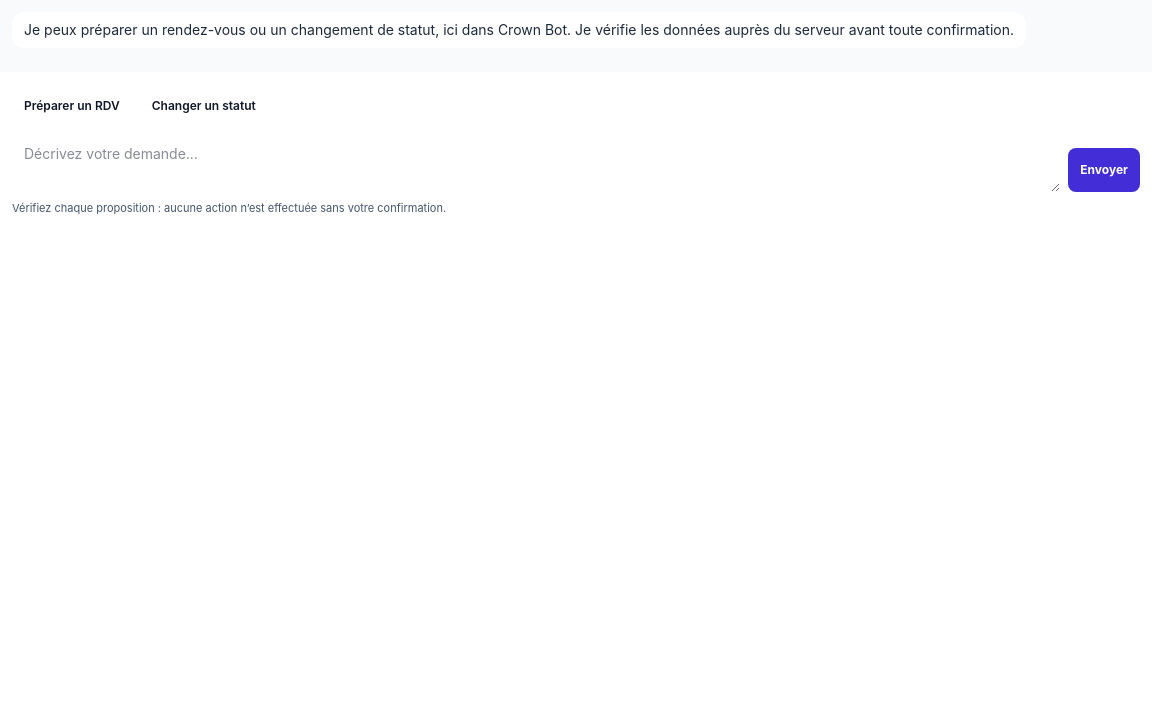
it: CB-03 G5 — genuine chat-style guided action security › uses actual G1 appointment server summary; requires checkbox and explicit G2 true
The image size is (1152, 720).
In the text box named "Votre message à Crown Bot": coordinates (536, 164) [12,136,1060,192], type "Prépare un RDV demain 10h pour Mme Benali contrôle"
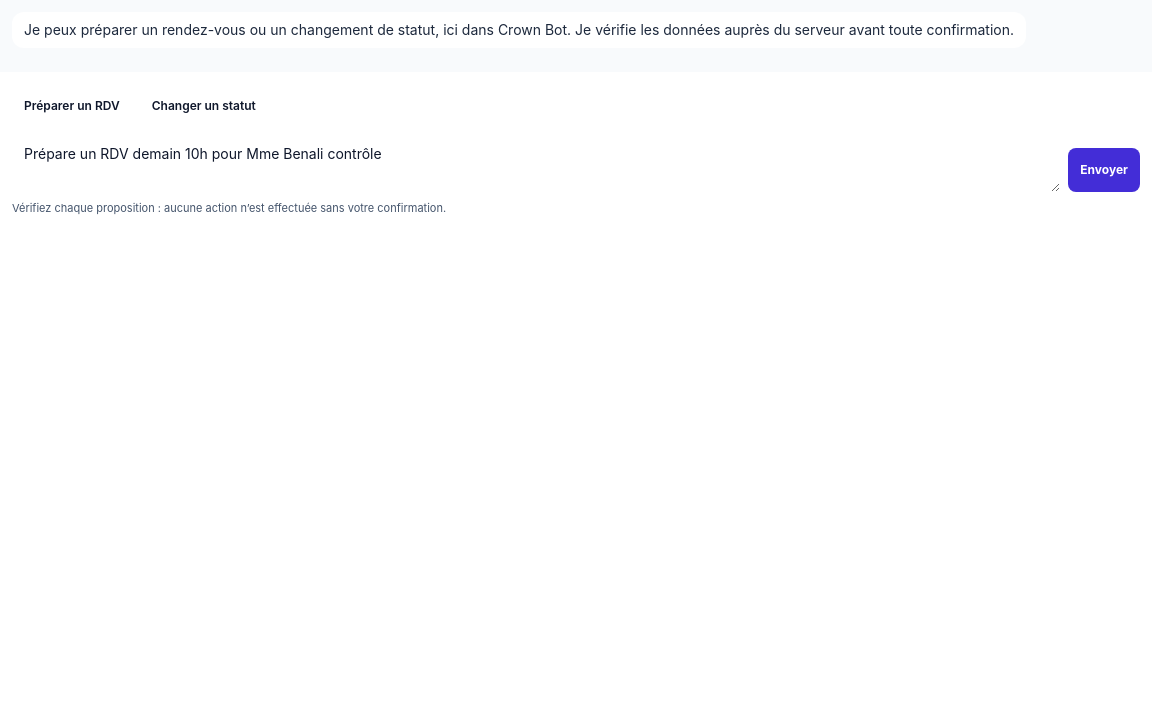
Click the button "Envoyer": coordinates (1104, 170) [1068,148,1140,192]
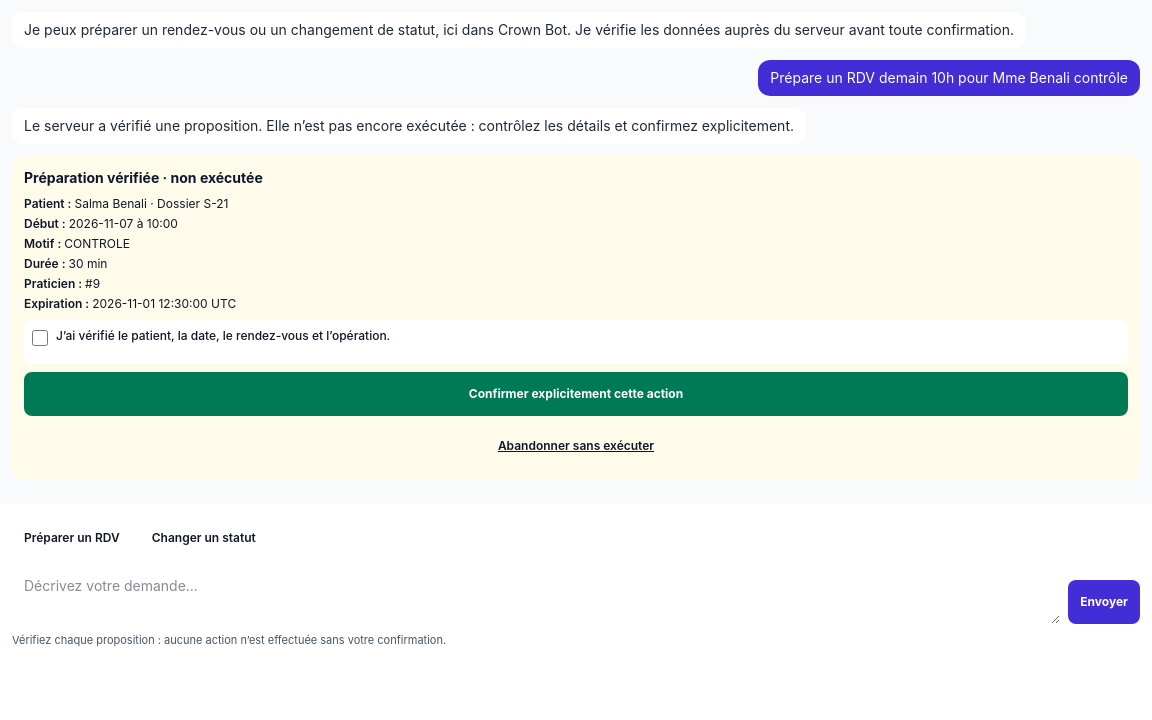
Now the text "Salma Benali · Dossier S-21" is shown, box [74,196,228,211]
Now the button "Confirmer explicitement cette action" is disabled, box [24,372,1128,416]
Click the checkbox labelled "J’ai vérifié le patient": coordinates (40, 338) [32,330,48,346]
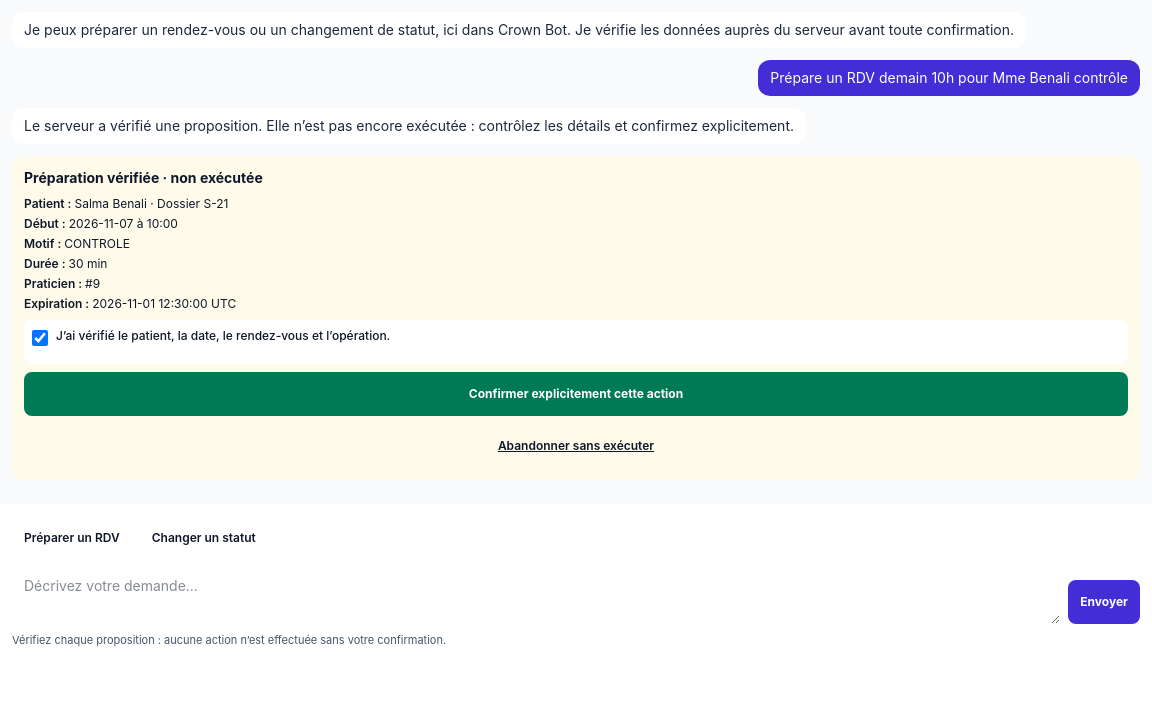
Click the button "Confirmer explicitement cette action": coordinates (576, 394) [24,372,1128,416]
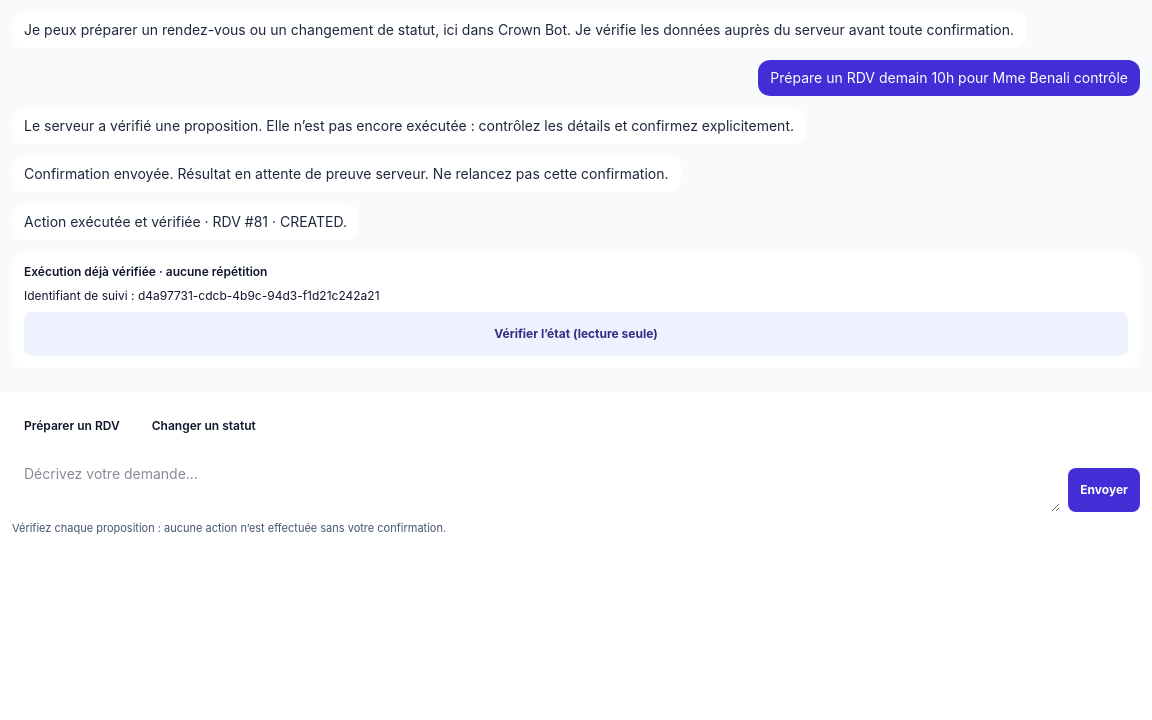
Now the text "Action exécutée et vérifiée · RDV #81 · CREATED." is shown, box [12,204,359,240]
Now the button "Confirmer explicitement cette action" is gone
